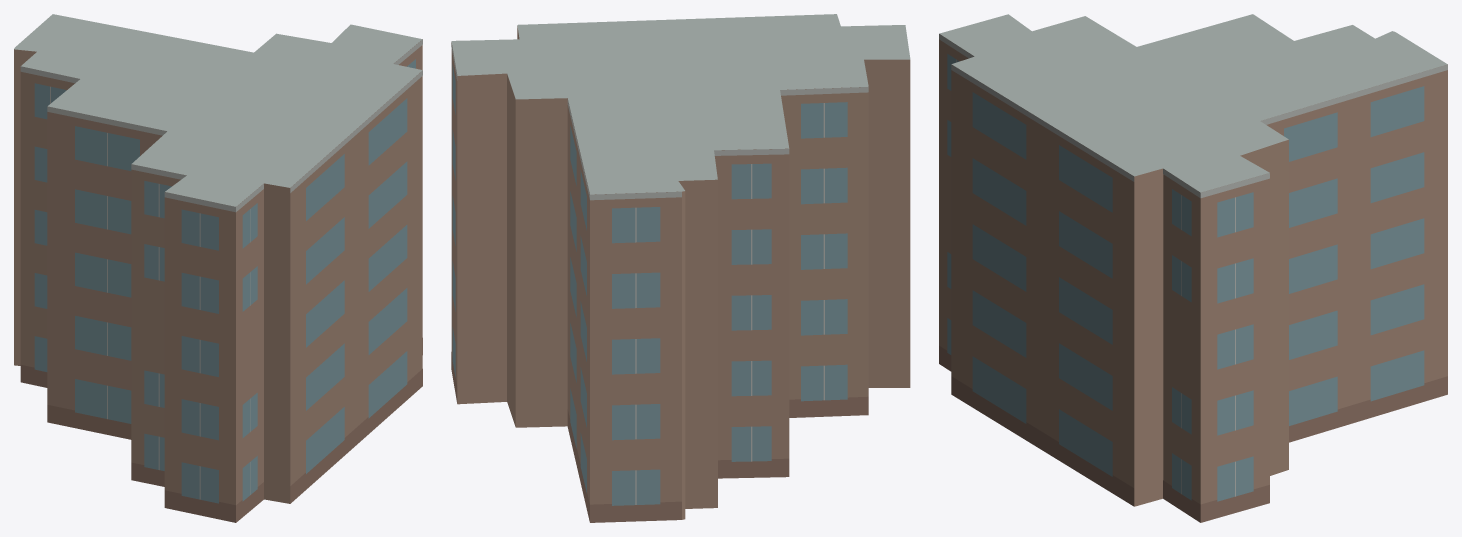
The model's file is survey-upis-32756196.glb.
3 views of the same model, side by side, from view 1: azimuth 30°, elevation 25°; view 2: azimuth 150°, elevation 25°; view 3: azimuth 270°, elevation 25° (orthographic). The views are drawn at different scales.
Parts seen in each view (by area): view 1: survey-upis-32756196.tmp; view 2: survey-upis-32756196.tmp; view 3: survey-upis-32756196.tmp.
Boxes of the visible parts, left/top/right/bottom form: survey-upis-32756196.tmp: left=14, top=14, right=422, bottom=522; survey-upis-32756196.tmp: left=451, top=14, right=910, bottom=522; survey-upis-32756196.tmp: left=939, top=14, right=1447, bottom=522.
Size of the model in its own units: 16.36 by 14.1 by 19.69.
